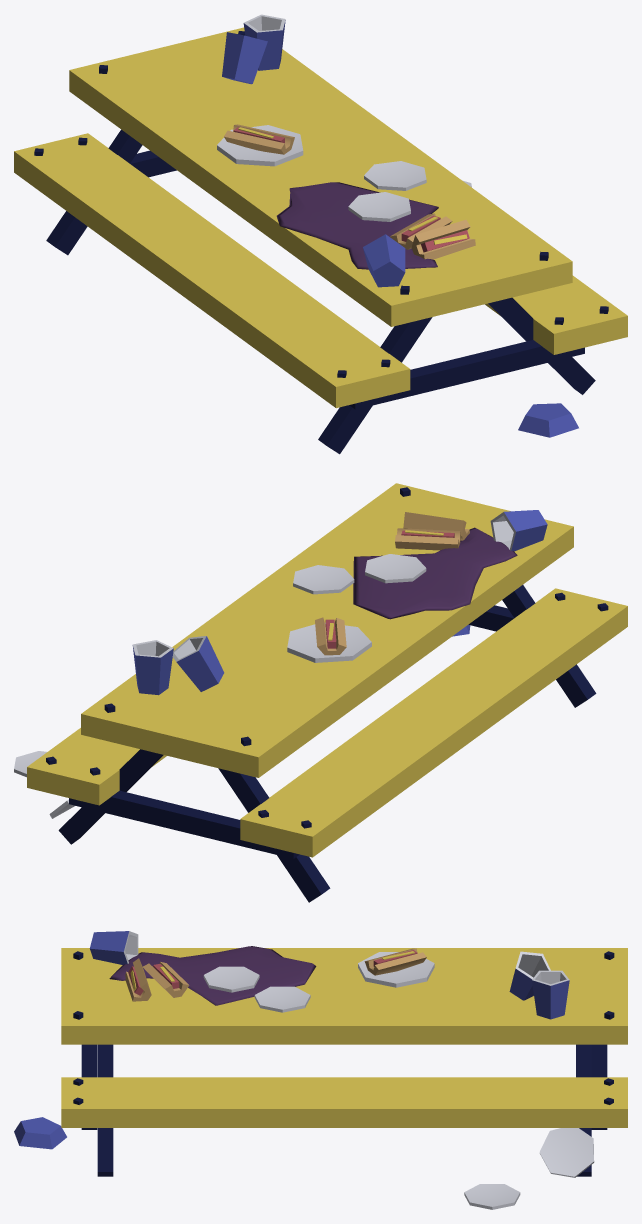
The model's file is table01_export.fbx.
3 renders of one model, top to bottom at view 1: azimuth 30°, elevation 25°; view 2: azimuth 150°, elevation 25°; view 3: azimuth 270°, elevation 25°, orthographic. The views are drawn at different scales.
Parts seen in each view (by area): view 1: pCube1, pCube3, pCube22, pCube2, pCube4, pCube24 (×3), pCube9, pCube8, pCylinder7, pCylinder8, pCube6, pCylinder1 (+5 smaller); view 2: pCube1, pCube3, pCube22, pCube2, pCube5, pCube24 (×3), pCube6, pCylinder6, pCube7, pCylinder7, pCylinder1, pCylinder8 (+4 smaller); view 3: pCube1, pCube2, pCube22, pCylinder4, pCube24 (×3), pCylinder6, pCylinder8, pCube8, pCylinder1, pCylinder9, pCylinder3, pCylinder2 (+5 smaller).
Boxes of the visible parts, left/top/right/bottom form: pCube1: left=69, top=27, right=572, bottom=326; pCube3: left=14, top=133, right=410, bottom=408; pCube22: left=276, top=182, right=438, bottom=269; pCube2: left=485, top=275, right=627, bottom=354; pCube4: left=349, top=340, right=584, bottom=409; pCube24 (×3): left=224, top=124, right=475, bottom=259; pCube9: left=318, top=317, right=432, bottom=454; pCube8: left=488, top=297, right=595, bottom=394; pCylinder7: left=222, top=32, right=267, bottom=84; pCylinder8: left=363, top=234, right=405, bottom=287; pCube6: left=46, top=129, right=142, bottom=255; pCylinder1: left=217, top=125, right=303, bottom=166; pCube1: left=81, top=483, right=573, bottom=777; pCube3: left=240, top=588, right=627, bottom=857; pCube22: left=353, top=527, right=517, bottom=619; pCube2: left=27, top=728, right=166, bottom=805; pCube5: left=69, top=790, right=299, bottom=858; pCube24 (×3): left=315, top=512, right=469, bottom=655; pCube6: left=218, top=768, right=330, bottom=902; pCylinder6: left=132, top=640, right=173, bottom=695; pCube7: left=58, top=749, right=163, bottom=844; pCylinder7: left=172, top=636, right=224, bottom=691; pCylinder1: left=287, top=623, right=371, bottom=662; pCylinder8: left=490, top=510, right=547, bottom=551; pCube1: left=61, top=948, right=627, bottom=1044; pCube2: left=61, top=1077, right=627, bottom=1127; pCube22: left=109, top=946, right=316, bottom=1005; pCylinder4: left=539, top=1128, right=594, bottom=1177; pCube24 (×3): left=125, top=948, right=426, bottom=1001; pCylinder6: left=532, top=970, right=569, bottom=1019; pCylinder8: left=89, top=931, right=138, bottom=964; pCube8: left=97, top=1044, right=113, bottom=1176; pCylinder1: left=358, top=952, right=434, bottom=987; pCylinder9: left=14, top=1117, right=66, bottom=1149; pCylinder3: left=203, top=966, right=259, bottom=992; pCylinder2: left=254, top=986, right=310, bottom=1012.
Bounding box in the file's own units: 2.68 × 1.4 × 4.27.
